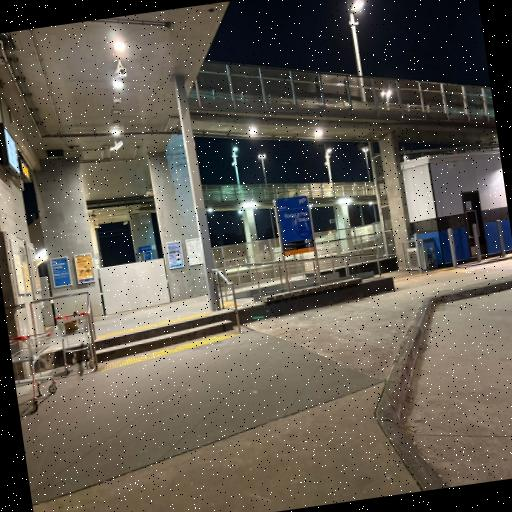handrail: (210, 268, 244, 332)
signage: (273, 196, 321, 290), (50, 256, 72, 288), (137, 244, 157, 259)
stairs: (95, 312, 235, 361)
tgsi: (101, 331, 237, 374), (97, 312, 212, 340)
